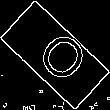O_SW: (23, 22, 87, 88)
